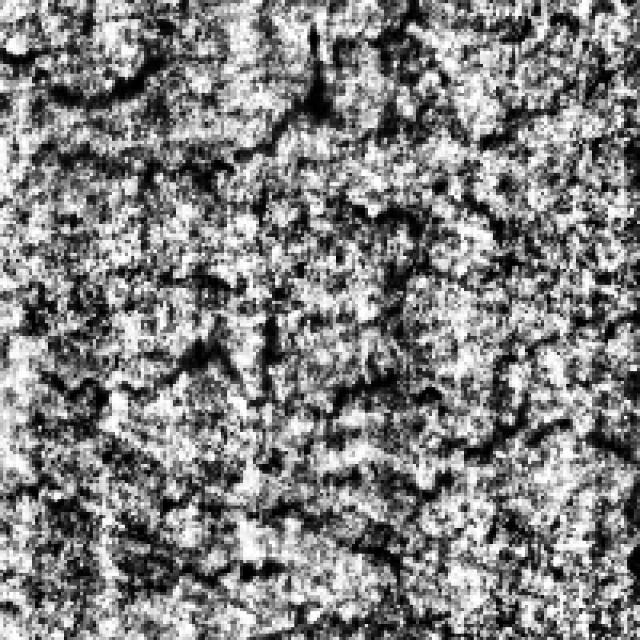Pitted_Surface: (0, 259, 634, 499), (342, 0, 607, 246), (0, 16, 330, 186)
